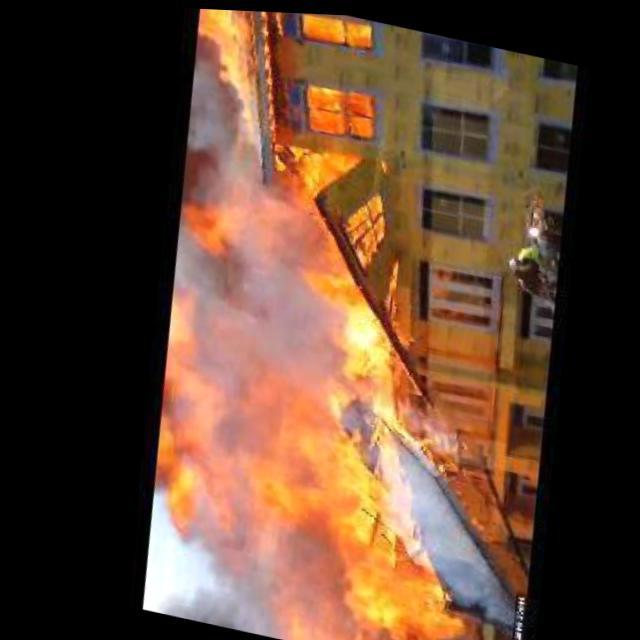fire: (91, 3, 460, 640), (346, 428, 530, 620)
